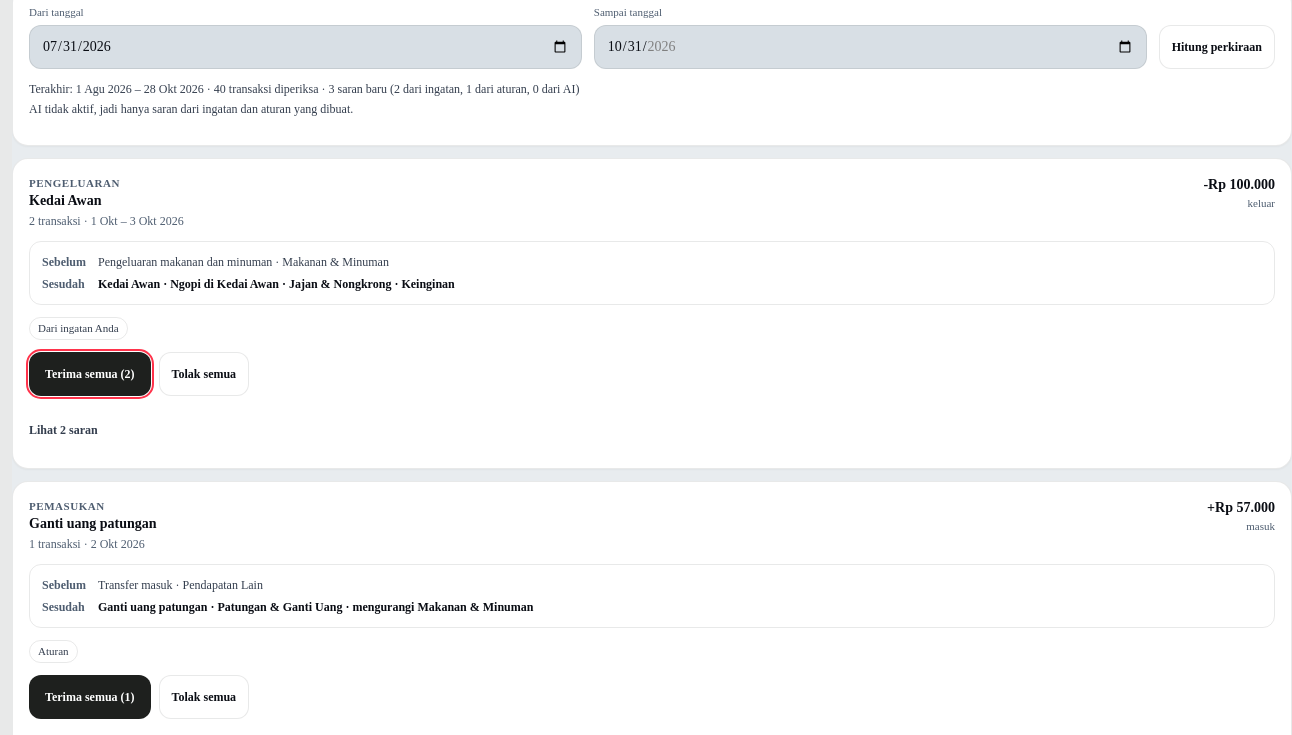
history suggestions section › accepts a group by keyboard and rejects a single row
Press Enter
(page scrolled)
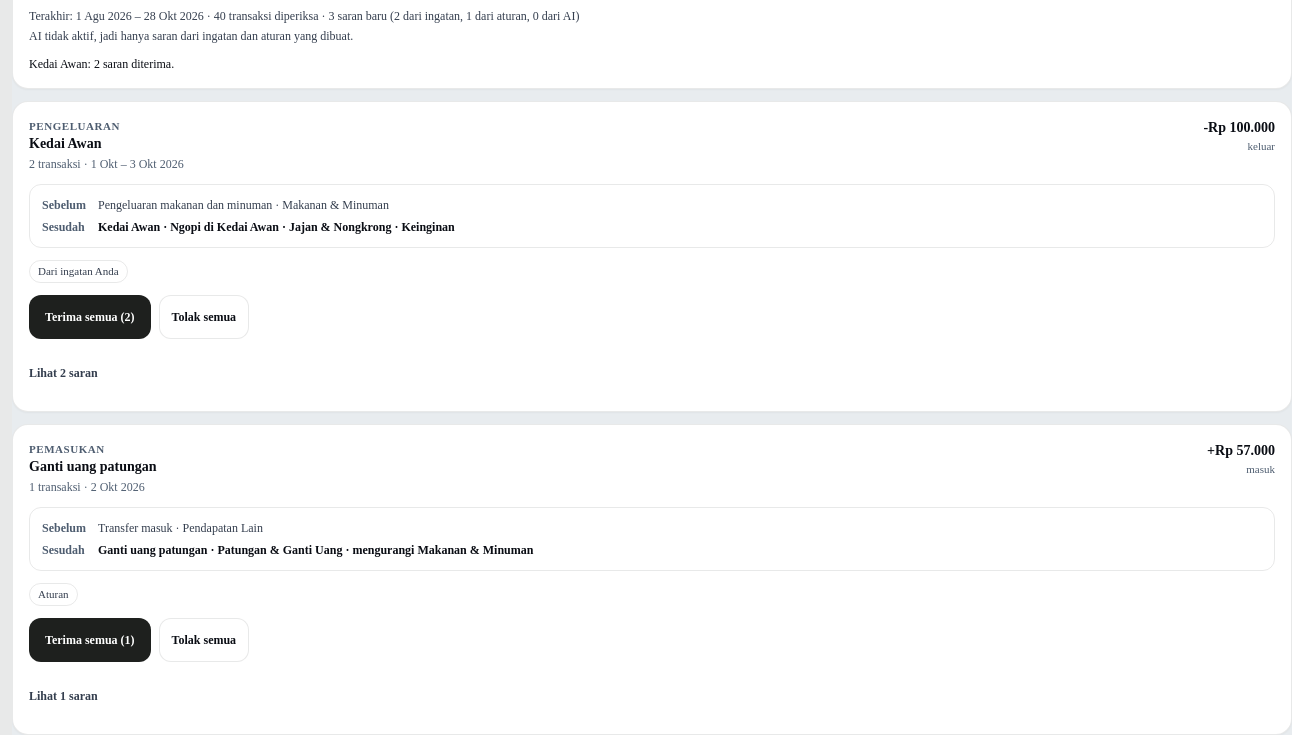
Expected: the text "Kedai Awan: 2 saran diterima." is shown, [29,56,174,70]
Click the heading "Lihat 1 saran". click: {"x": 63, "y": 696}
box: [29,688,98,702]
(page scrolled)
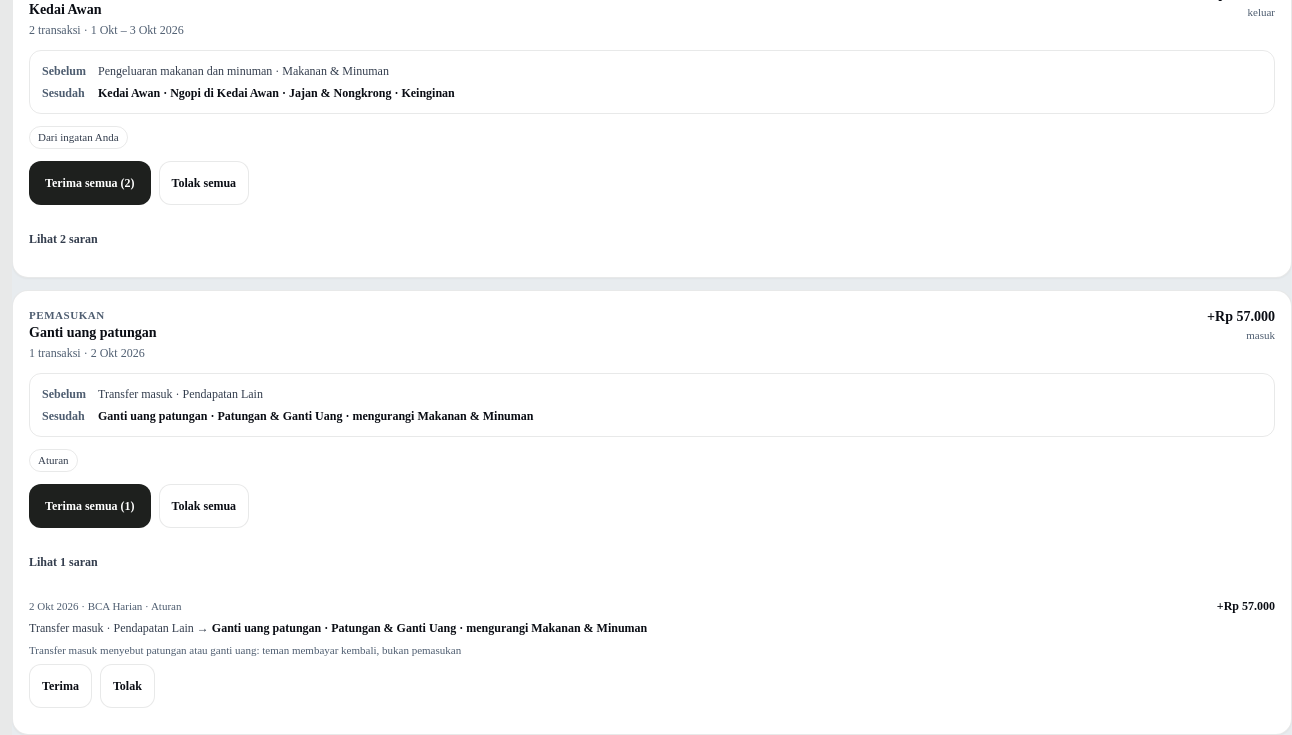
Click the button with aria-label "Tolak saran untuk Transfer masuk". click: {"x": 127, "y": 686}
box: [100,664,155,708]
(page scrolled)
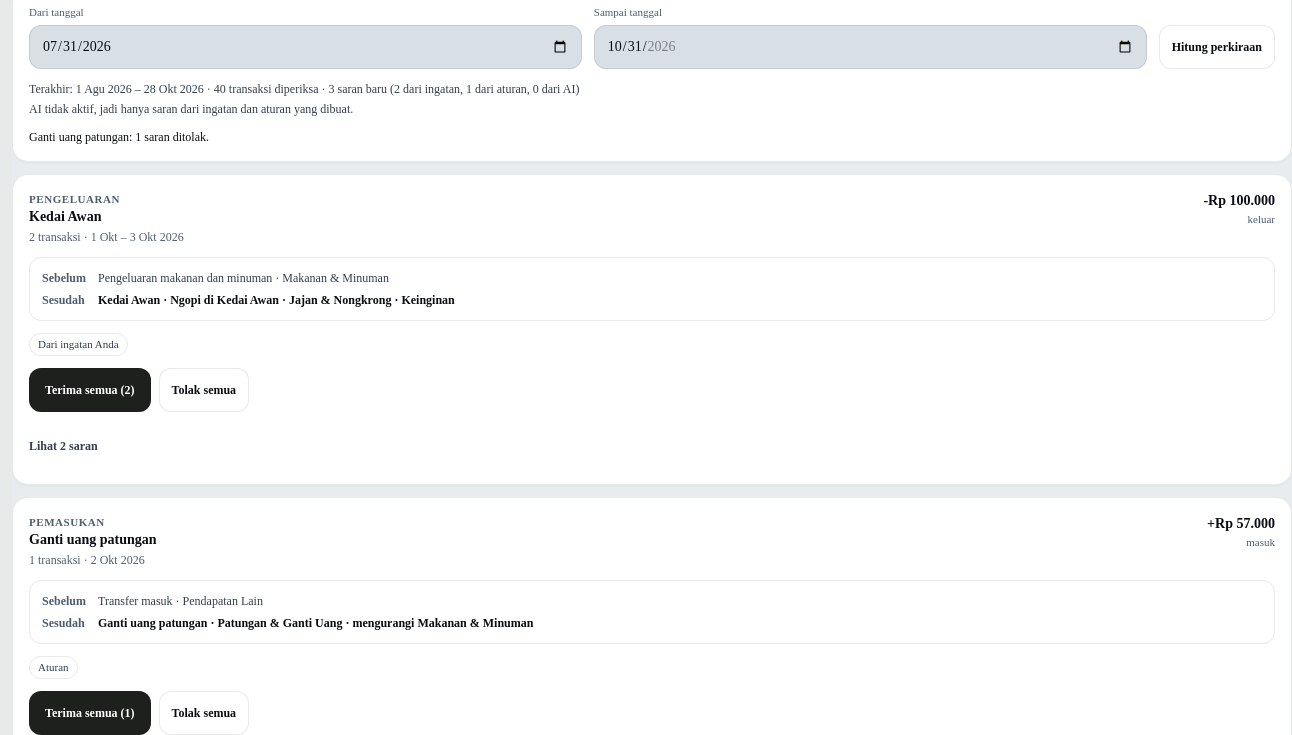
Expected: the text "Ganti uang patungan: 1 saran ditolak." is shown, [29,130,209,144]
